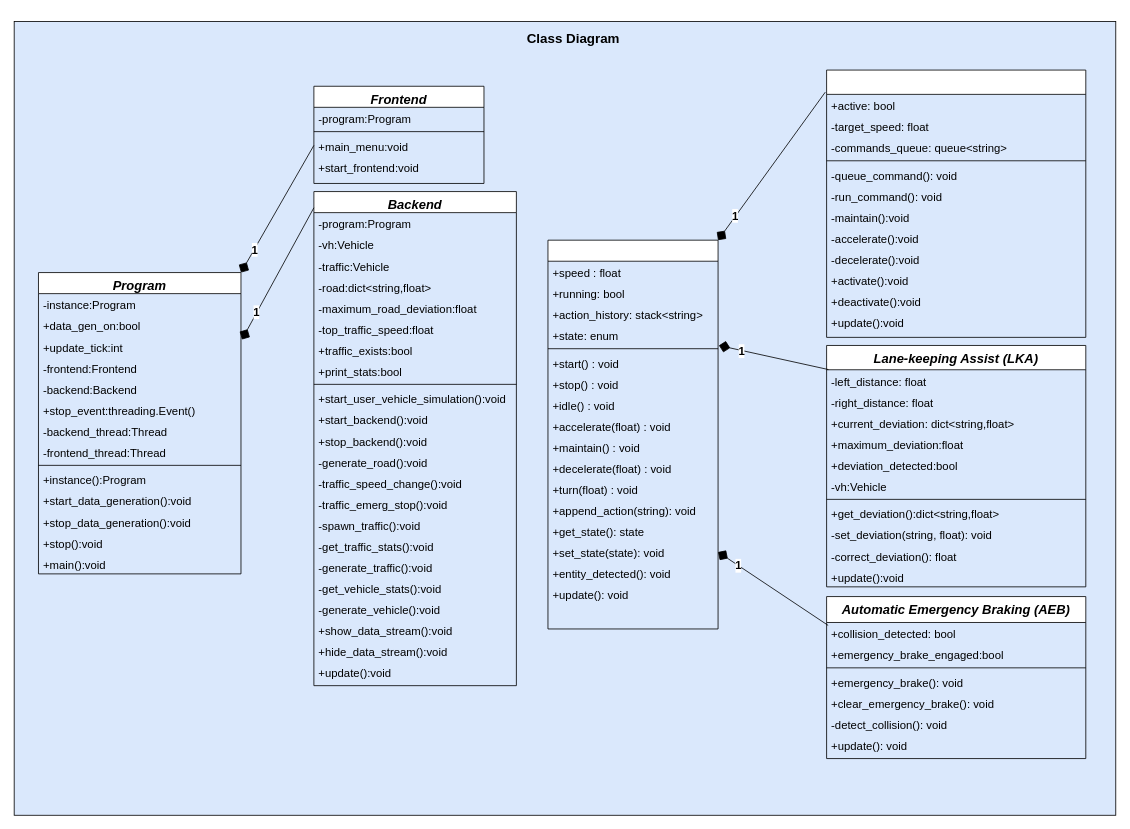
The diagram is 1130 pixels wide and 829 high, and some of its shapes have lost their labels. Here are the shapes that lost their labels. From the top down, the box of each, then its label:
(826, 69, 1086, 337): Adaptive Cruise Control (ACC)
(547, 239, 718, 629): Vehicle
